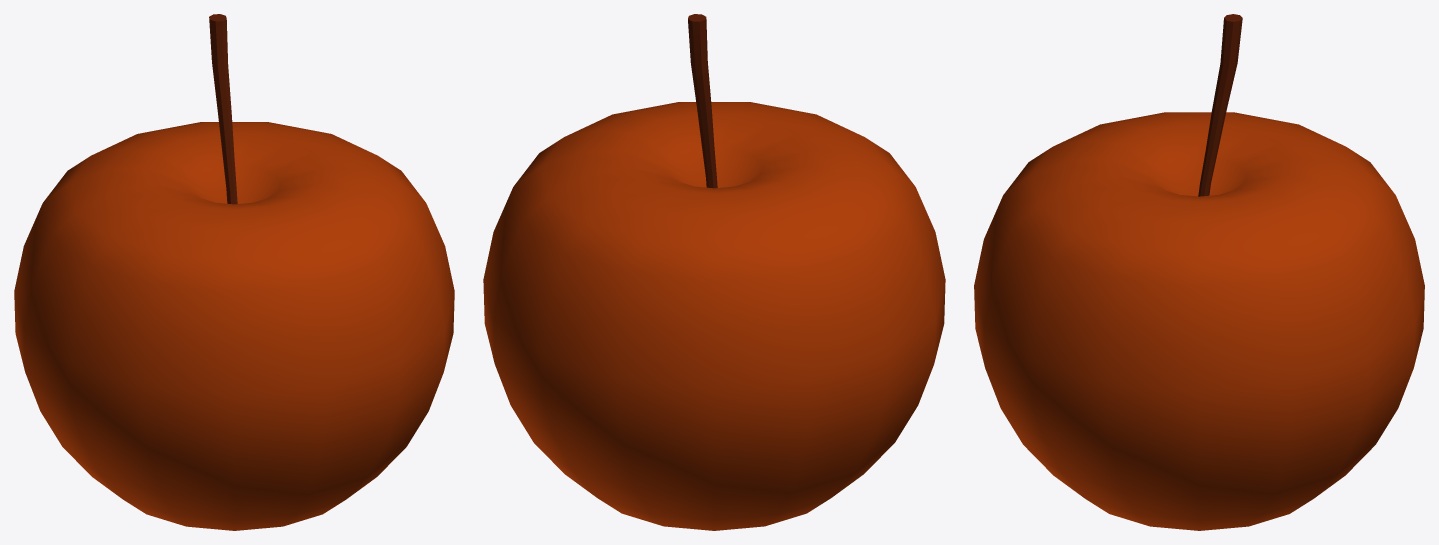
The model's file is Apple.fbx.
3 renders of one model, left to right at view 1: azimuth 30°, elevation 25°; view 2: azimuth 150°, elevation 25°; view 3: azimuth 270°, elevation 25°, orthographic. The views are drawn at different scales.
Parts seen in each view (by area): view 1: pSphere1, pCylinder1; view 2: pSphere1, pCylinder1; view 3: pSphere1, pCylinder1.
Part boxes in pixels (left/top/right/bottom): pSphere1: left=14, top=122, right=454, bottom=530; pCylinder1: left=209, top=14, right=237, bottom=204; pSphere1: left=483, top=102, right=945, bottom=530; pCylinder1: left=688, top=14, right=717, bottom=188; pSphere1: left=974, top=112, right=1424, bottom=530; pCylinder1: left=1198, top=14, right=1242, bottom=196.
Bounding box in the file's own units: 10.25 × 11.97 × 10.3.
